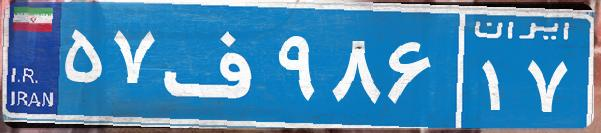1: (475, 38, 525, 113)
5: (57, 26, 110, 107)
6: (385, 28, 445, 110)
7: (110, 28, 158, 105), (525, 38, 570, 115)
8: (330, 28, 385, 110)
9: (273, 28, 330, 110)
ف: (158, 15, 273, 115)
